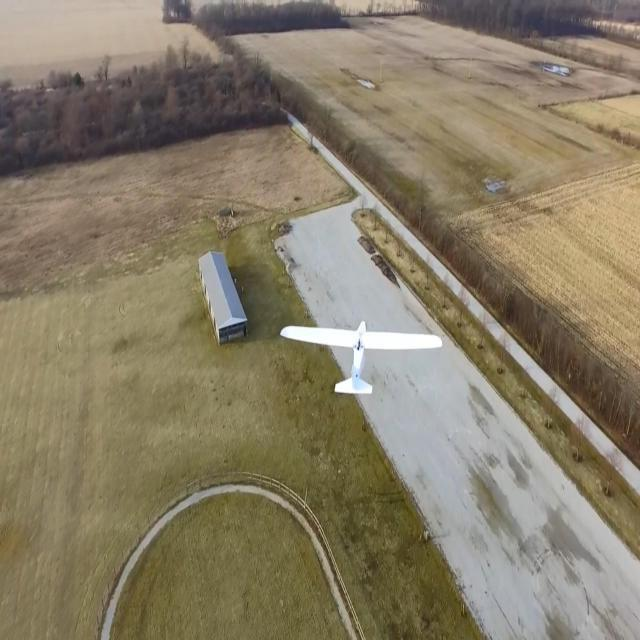iha: (200, 294, 429, 422)
